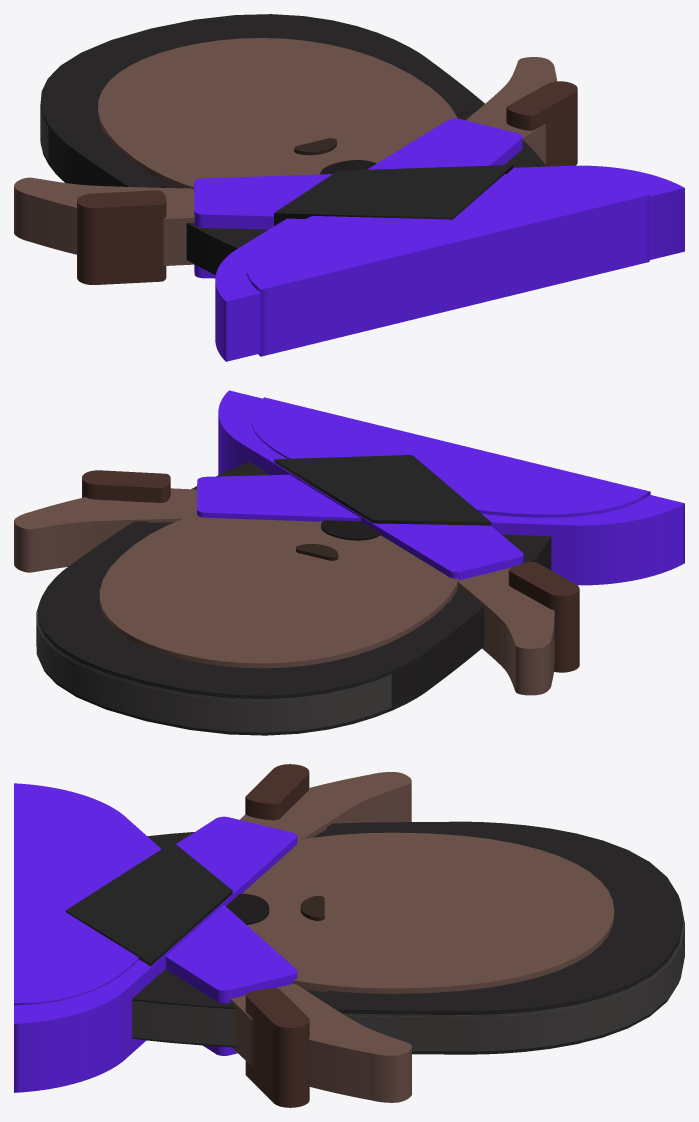
File: emoji_u1f645_1f3ff_200d_2640.glb
The picture shows the model from 3 angles, top to bottom: view 1: azimuth 30°, elevation 25°; view 2: azimuth 150°, elevation 25°; view 3: azimuth 270°, elevation 25°; orthographic projection. The views are drawn at different scales.
Parts seen in each view (by area): view 1: emoji_u1f645_1f3ff_200d_2640; view 2: emoji_u1f645_1f3ff_200d_2640; view 3: emoji_u1f645_1f3ff_200d_2640.
Boxes of the visible parts, x1,y1,x2,y2 form: emoji_u1f645_1f3ff_200d_2640: (14,14,684,361); emoji_u1f645_1f3ff_200d_2640: (14,390,684,735); emoji_u1f645_1f3ff_200d_2640: (14,764,684,1107).
Size of the model in its own units: 0.0334 by 0.0046 by 0.0335.
